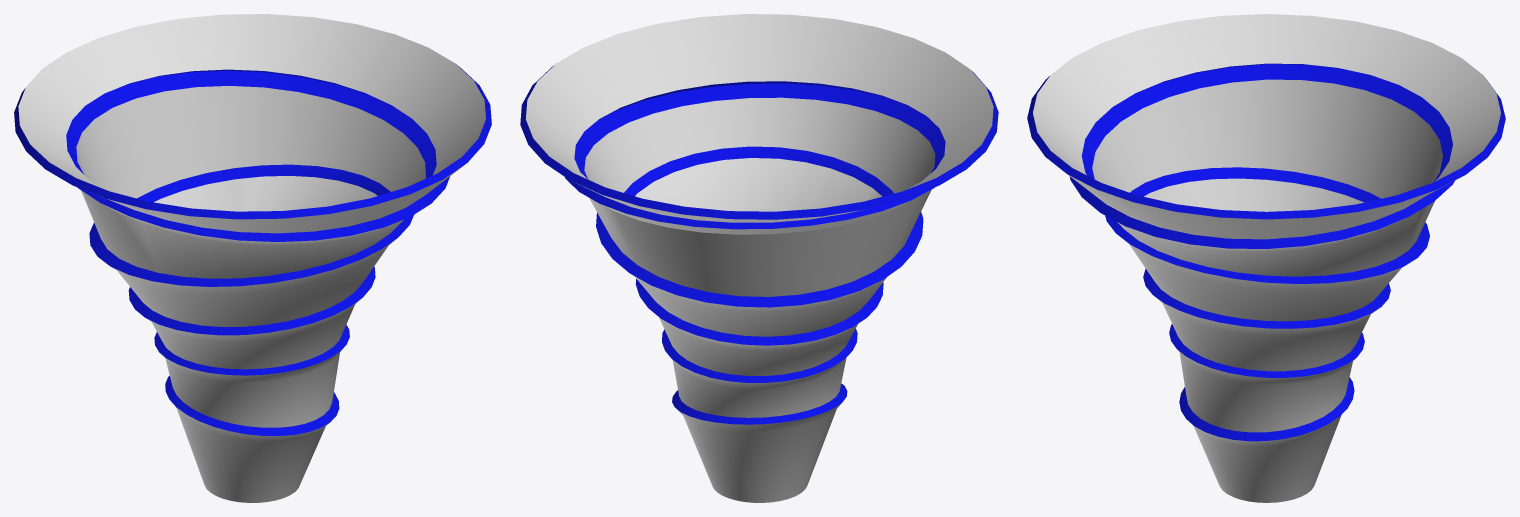
File: TornadoFull.fbx
3 renders of one model, left to right at view 1: azimuth 30°, elevation 25°; view 2: azimuth 150°, elevation 25°; view 3: azimuth 270°, elevation 25°, orthographic.
Parts seen in each view (by area): view 1: Cone; view 2: Cone; view 3: Cone.
Boxes of the visible parts, <box> form: Cone: <box>14,14,491,502</box>; Cone: <box>520,14,998,502</box>; Cone: <box>1027,14,1505,502</box>.
Bounding box in the file's own units: 0.5909 × 0.5037 × 0.591.
